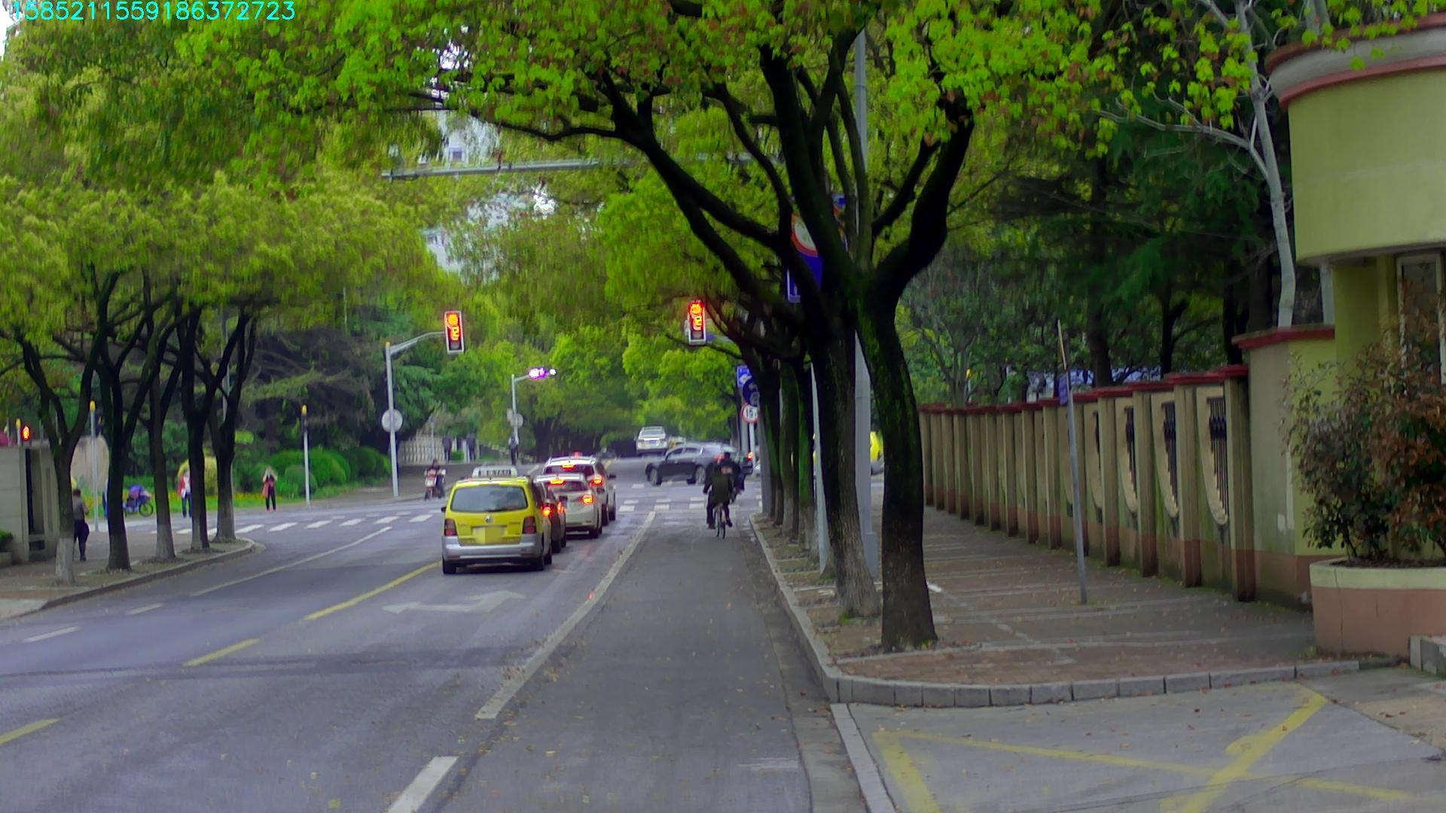red: (444, 312, 462, 352), (687, 301, 704, 341)
